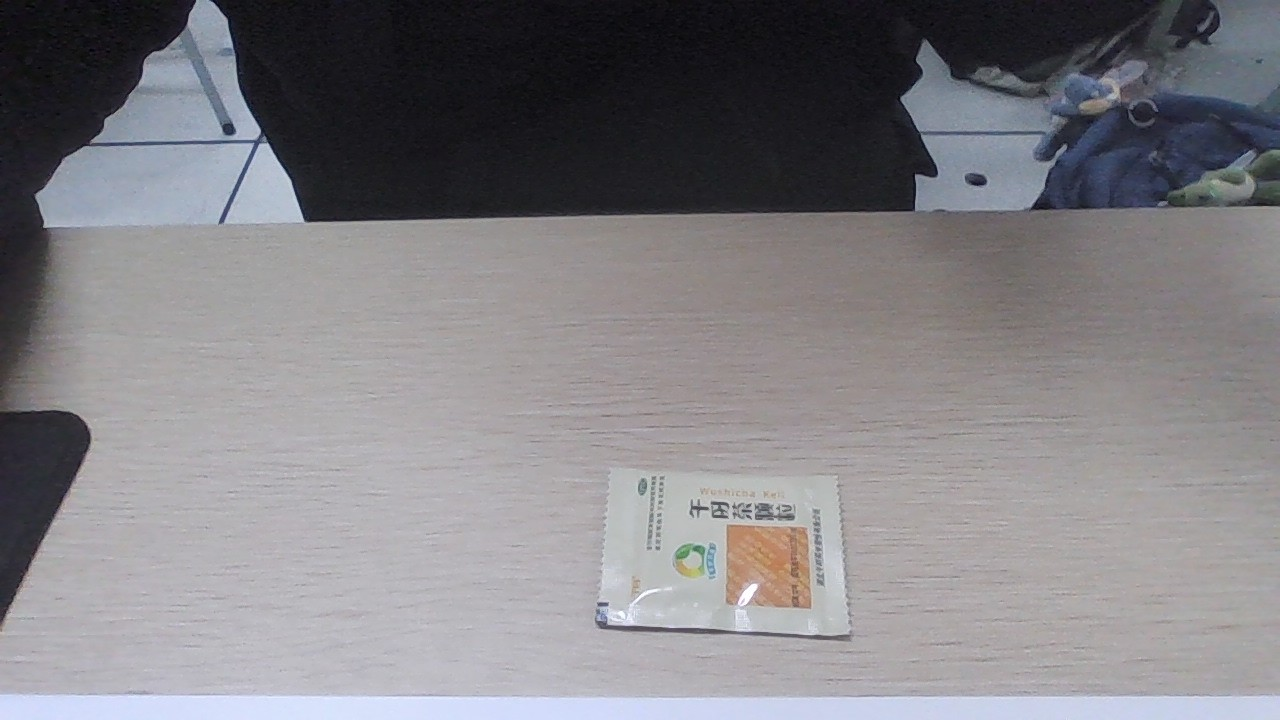YH-yellow medicine: (615, 462, 840, 631)
